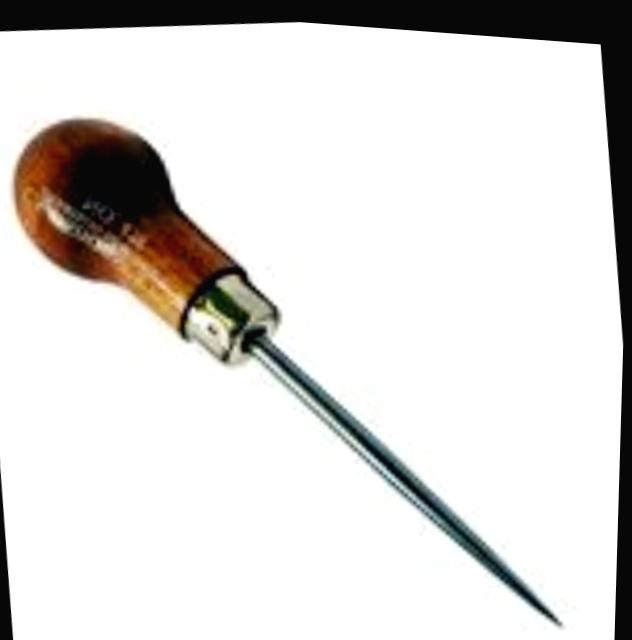ice pick: (0, 63, 575, 640)
